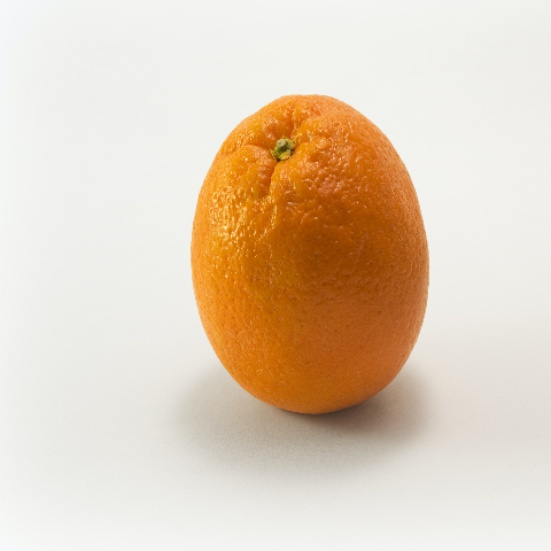orange: (152, 56, 492, 453)
